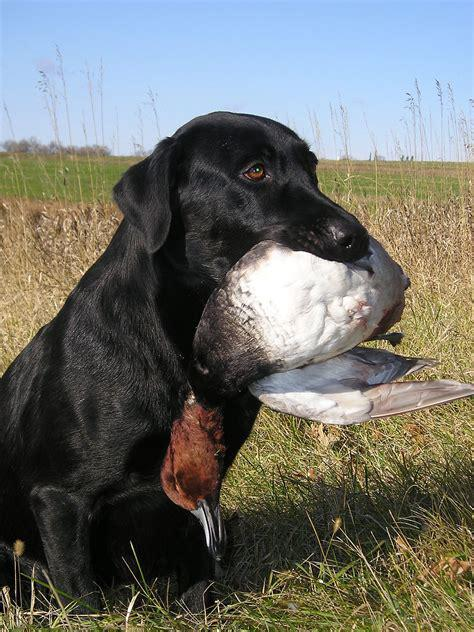dog: (1, 112, 366, 614)
